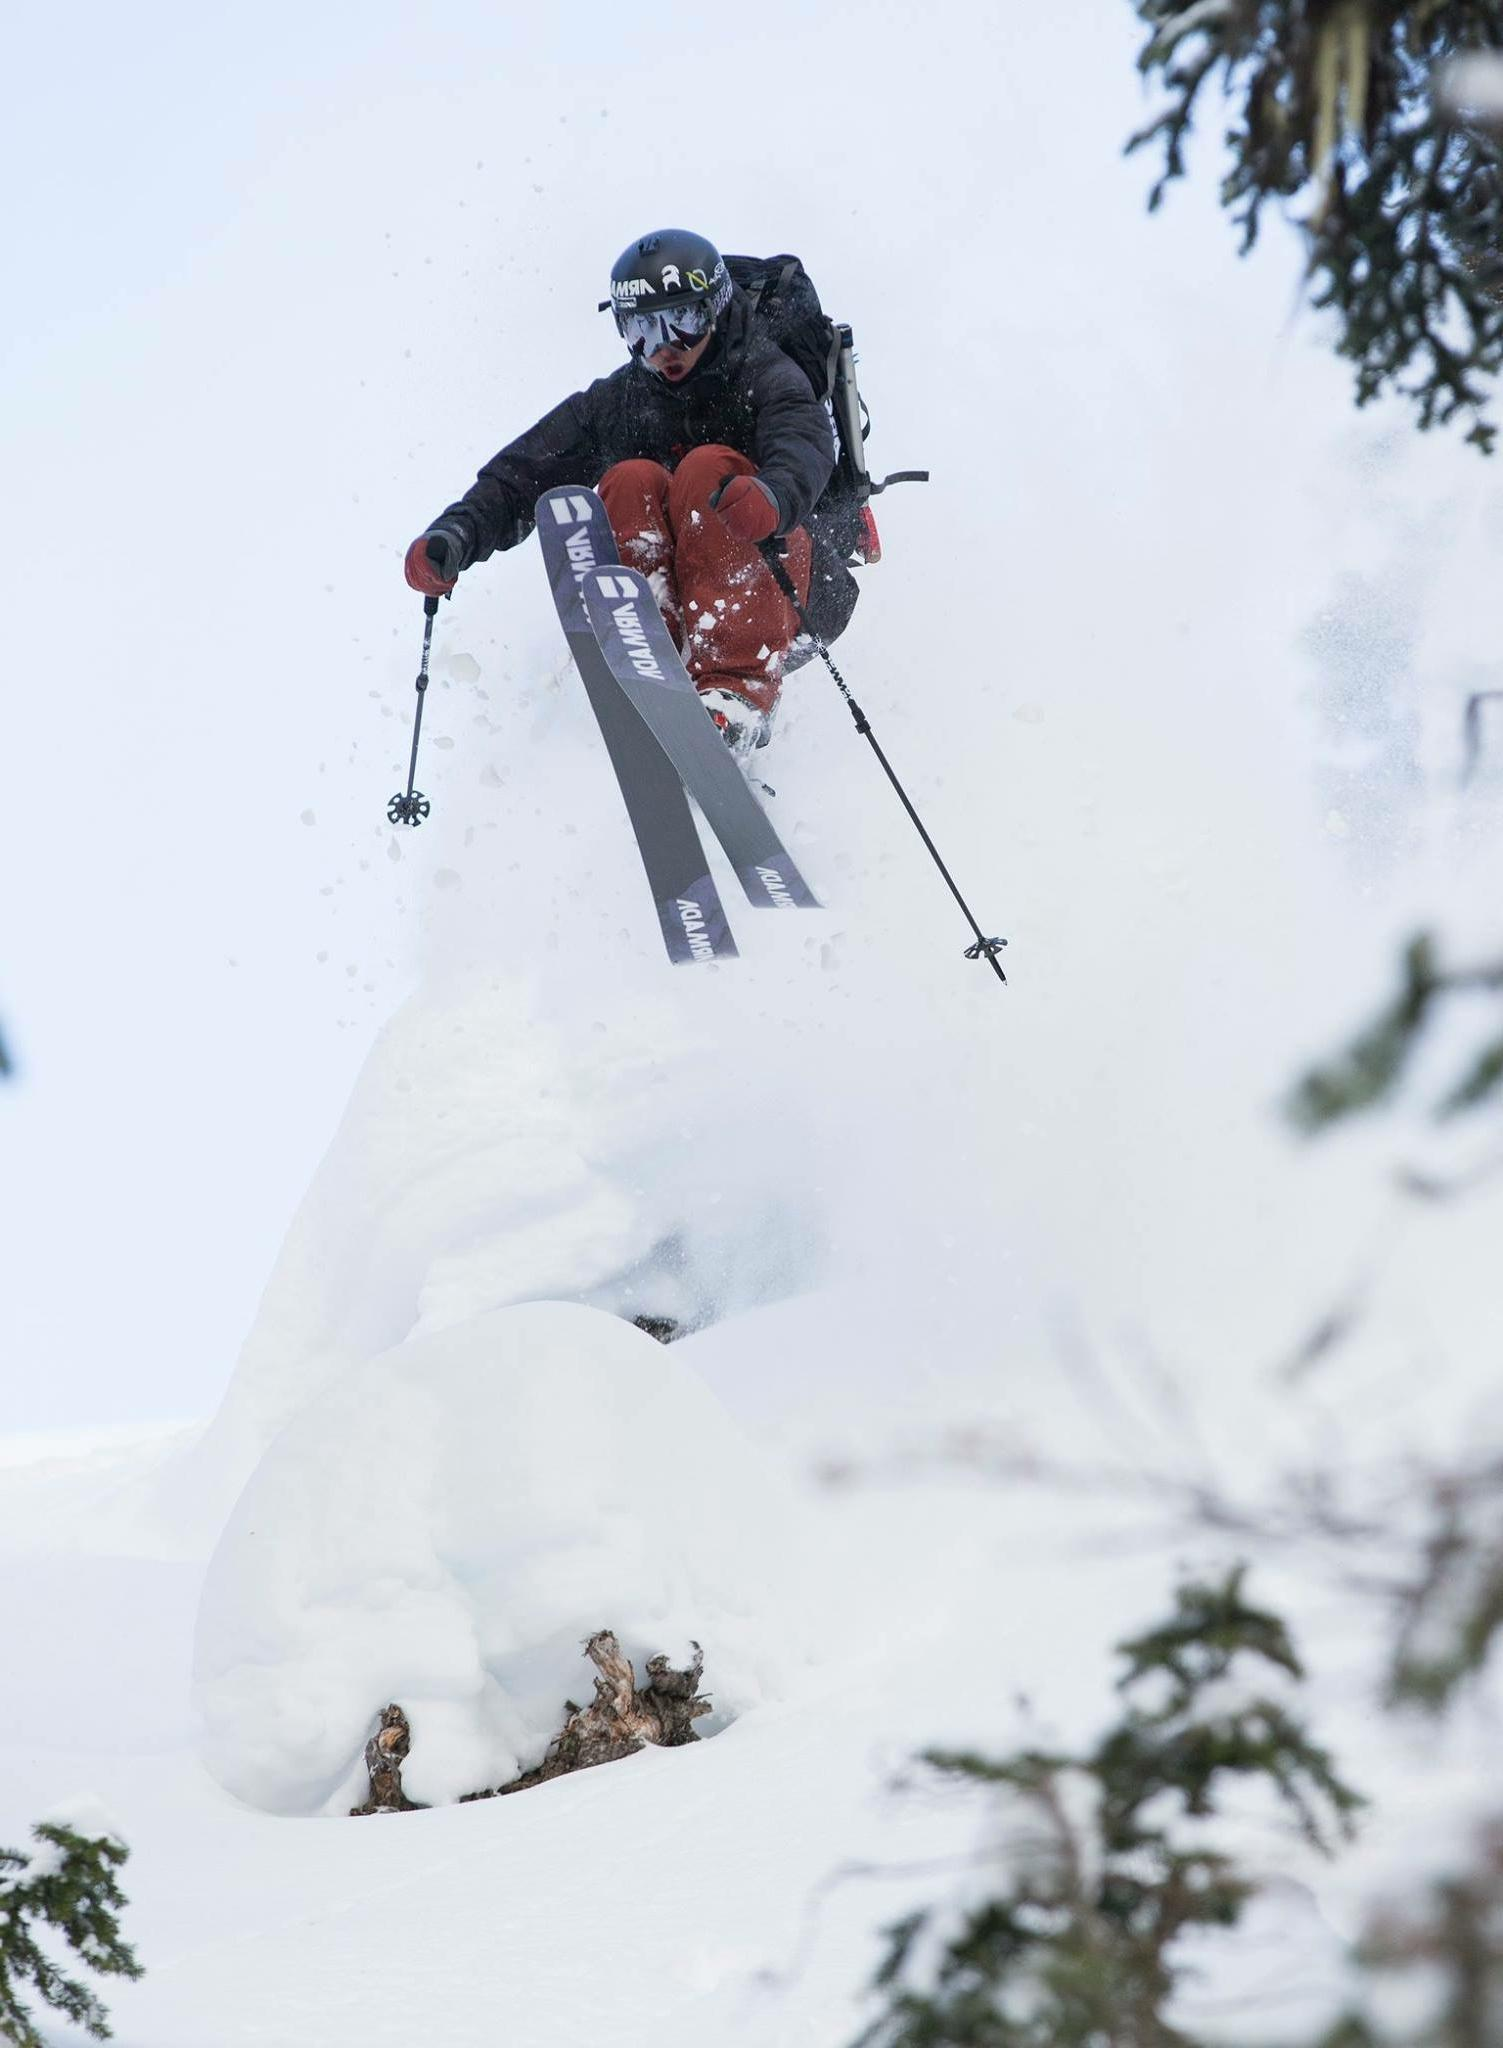Skis: (460, 378, 867, 1002)
